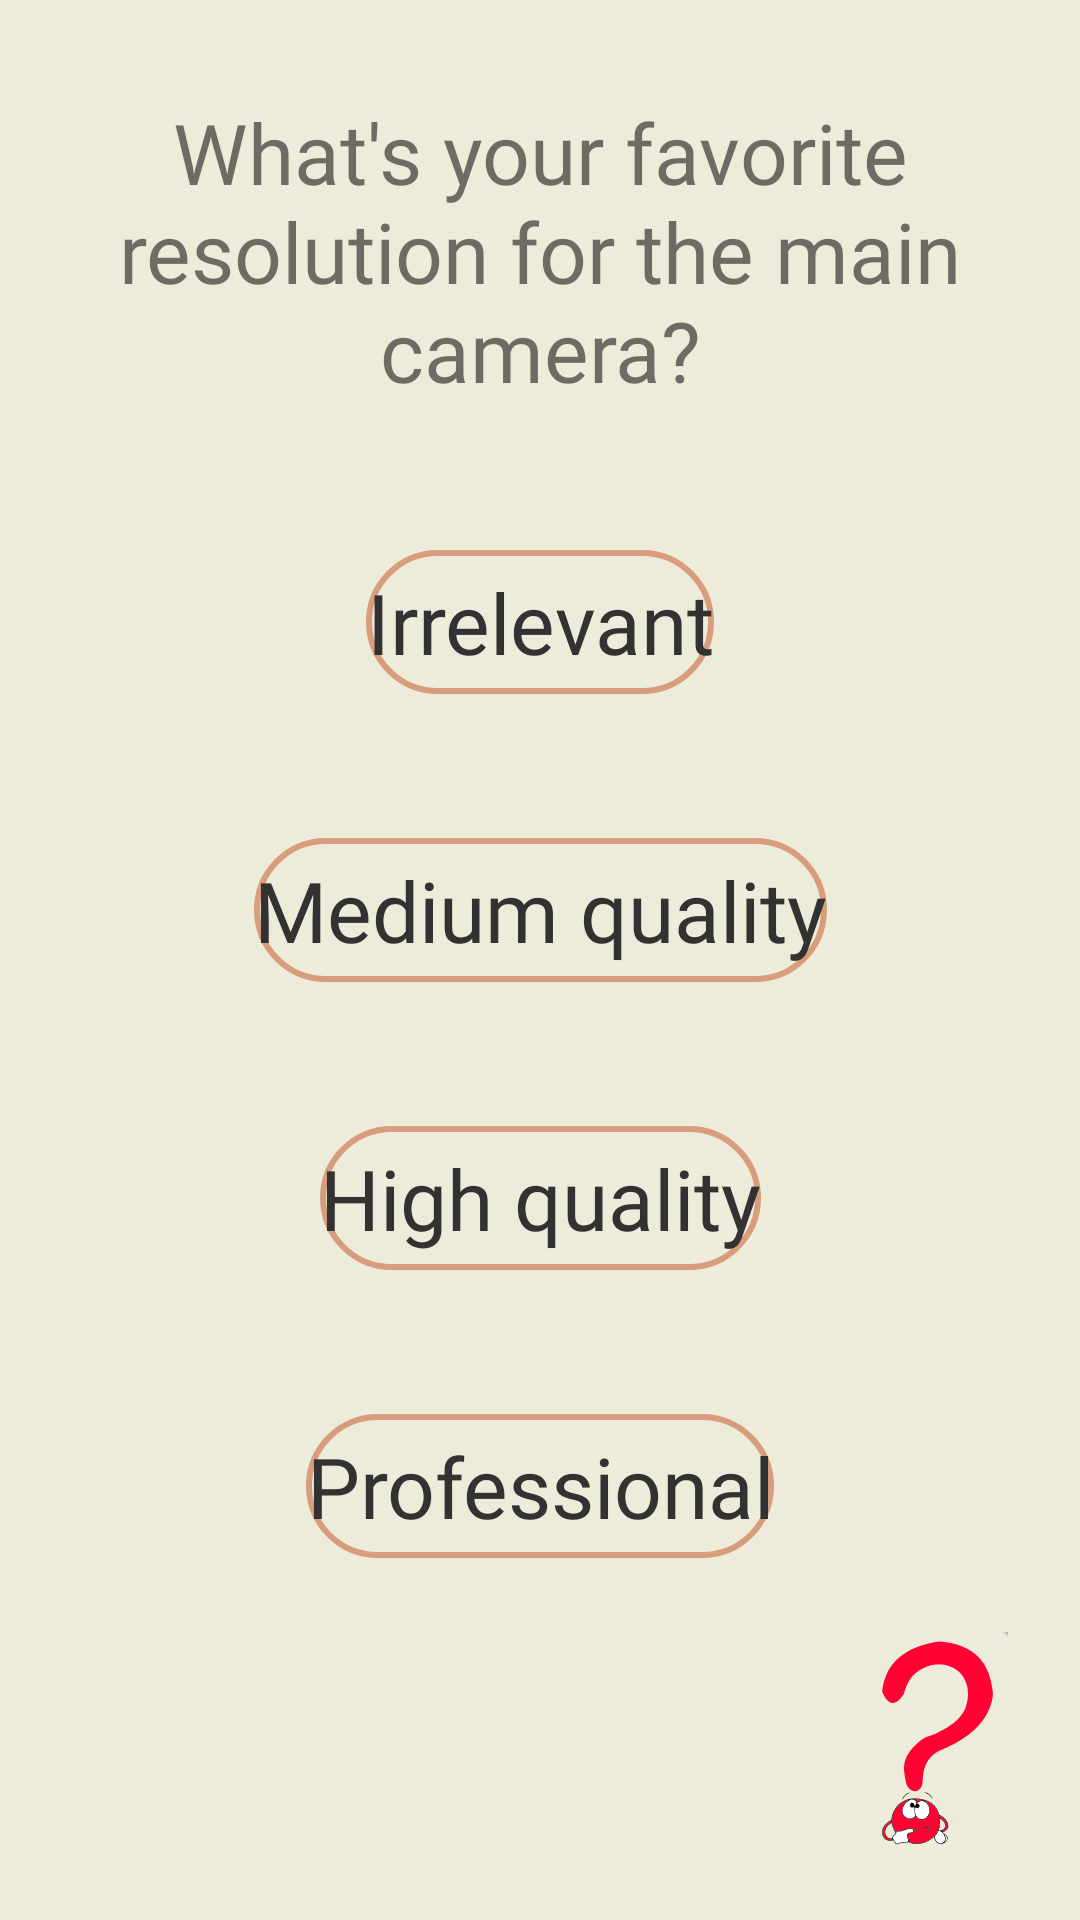

Where icons sit on this 1080px×1920px app screen, as {"x1": x1, "y1": y1, "x2": x2, "y2": y2}:
question mark: {"x1": 882, "y1": 1632, "x2": 1008, "y2": 1845}
